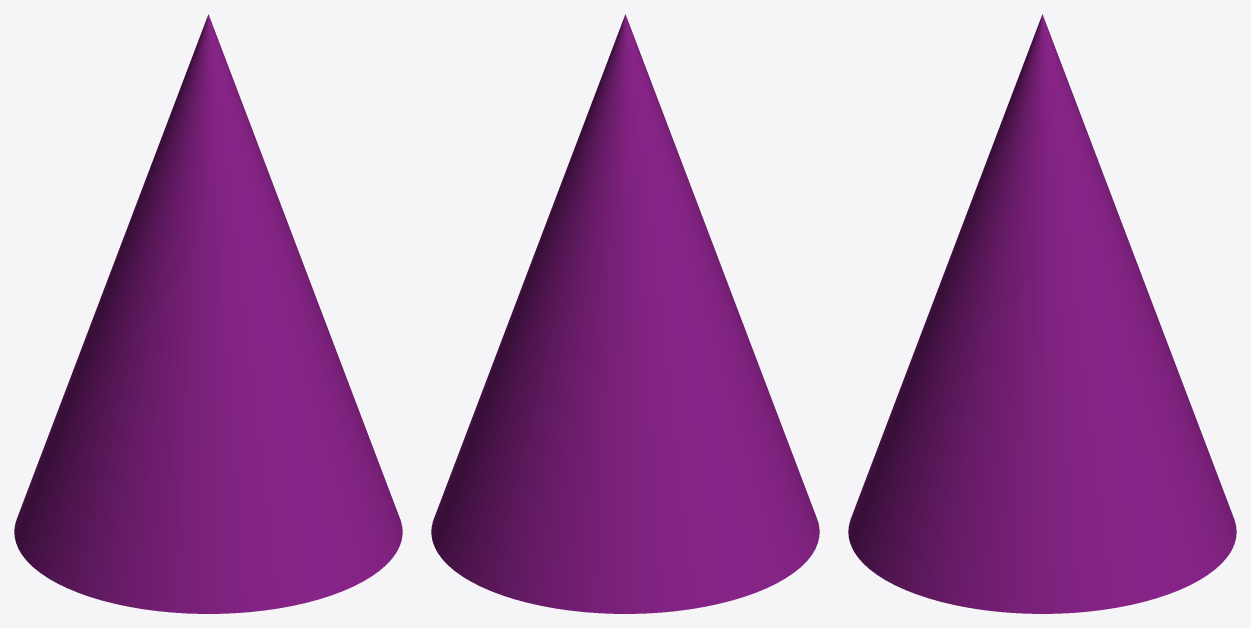
3 renders of one model, left to right at view 1: azimuth 30°, elevation 25°; view 2: azimuth 150°, elevation 25°; view 3: azimuth 270°, elevation 25°, orthographic.
Visible parts, largest first — view 1: root; view 2: root; view 3: root.
Boxes of the visible parts, <box> form: root: <box>14,14,402,613</box>; root: <box>431,14,819,613</box>; root: <box>848,14,1236,613</box>.
Size of the model in its own units: 0.2724 by 0.4008 by 0.2724.
1 material, 1 textured.
